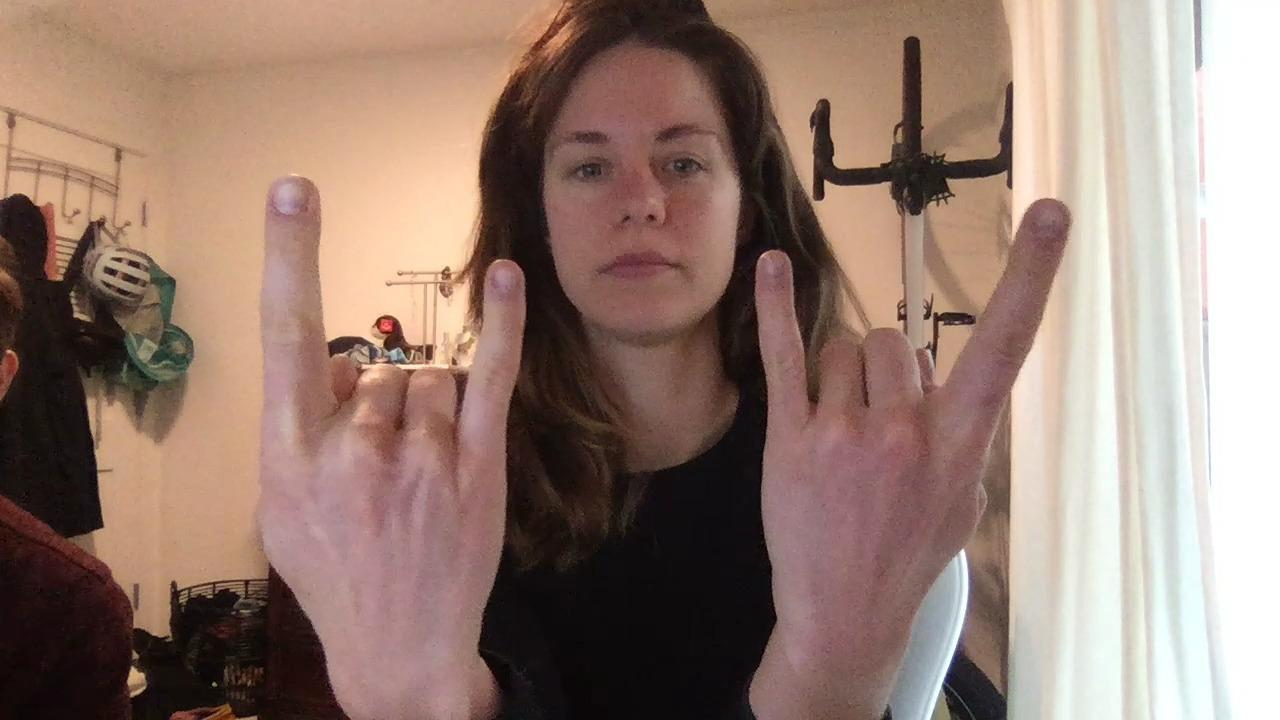face: (539, 56, 744, 339)
